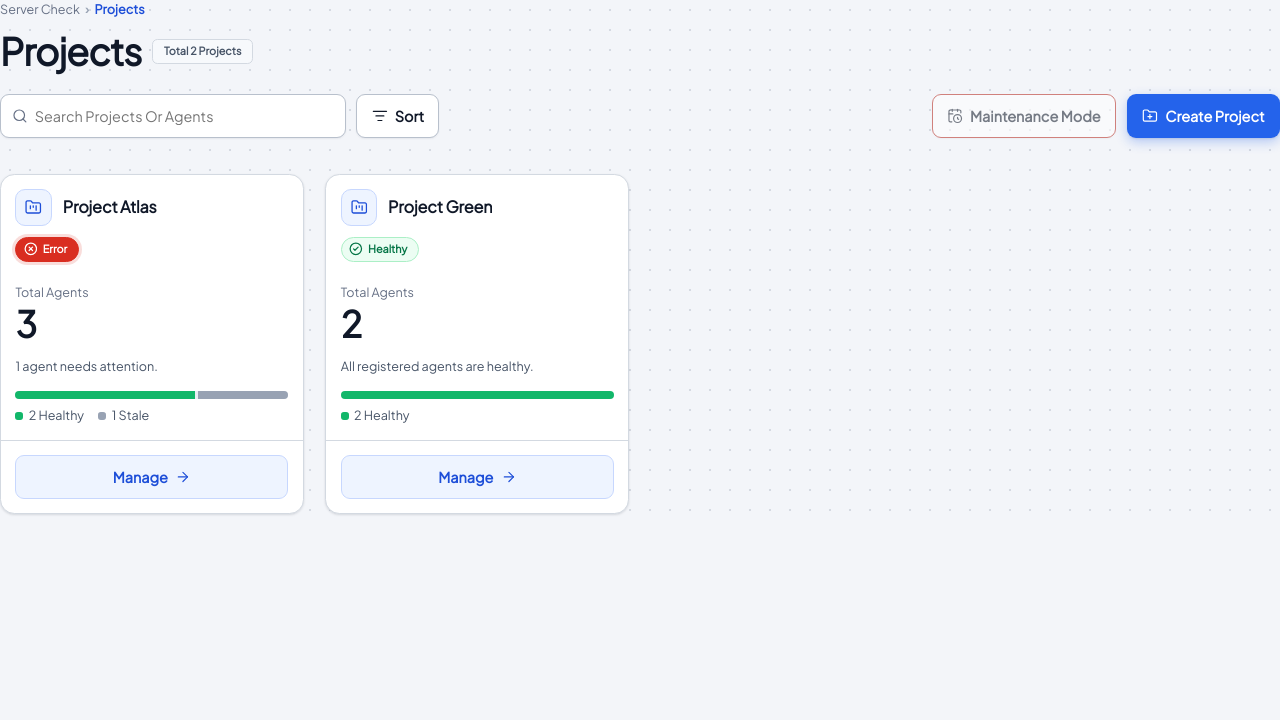
it: Projects collection flow › creates a project from the modal with the canonical API payload
Click the button "Create Project" at (1203, 116), box 1127,94 -> 1279,138
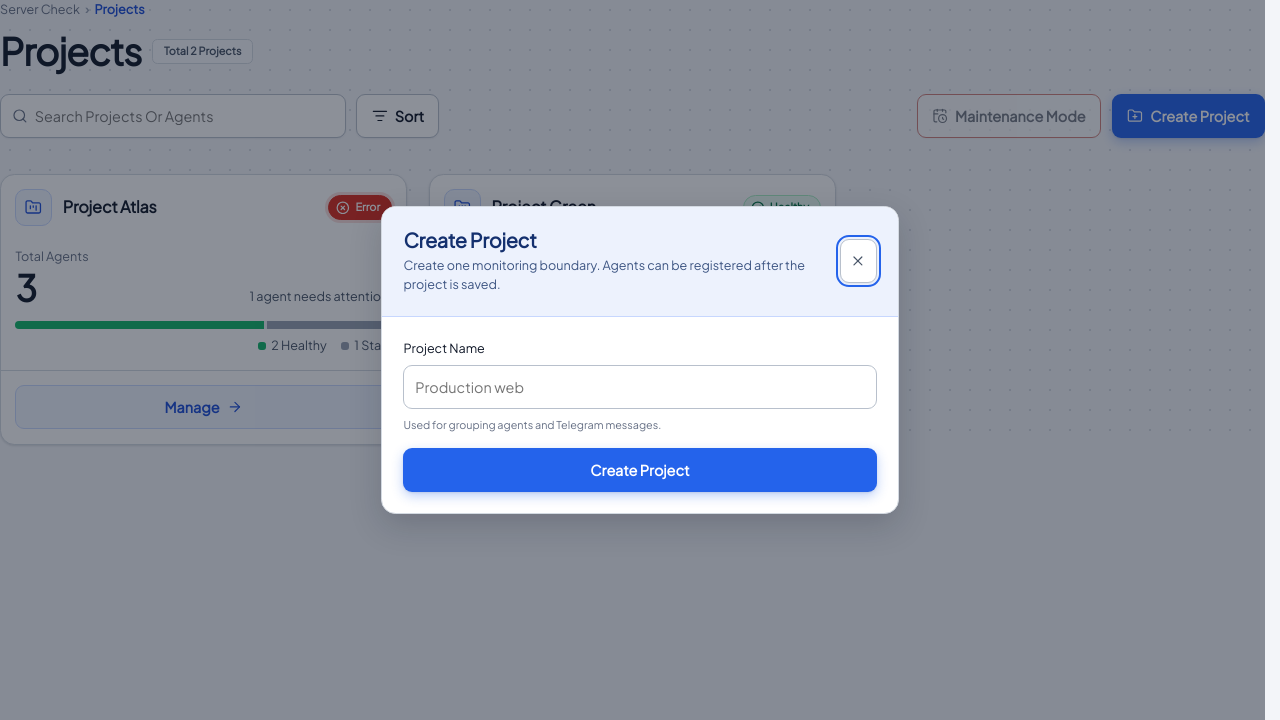
Type "Project Beacon" into the field labelled "Project Name" at (640, 388), box 403,366 -> 877,410
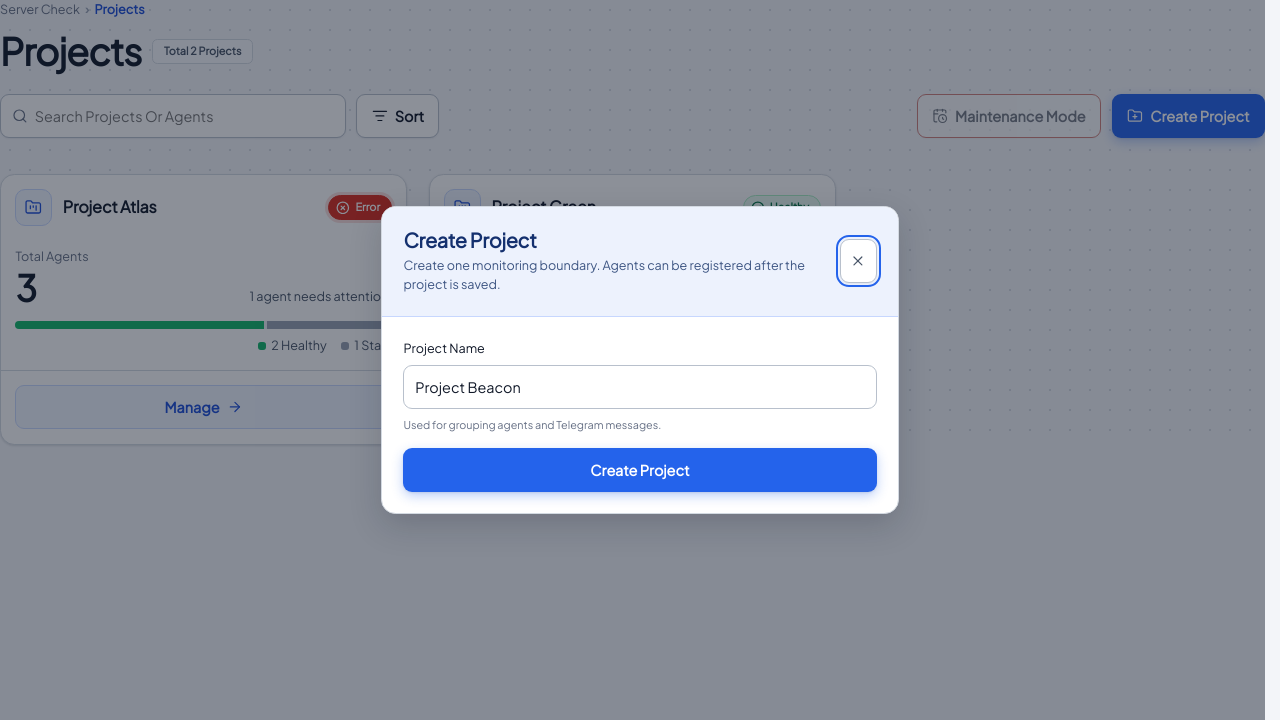
Click the button "Create Project" at (640, 470), box 403,448 -> 877,492
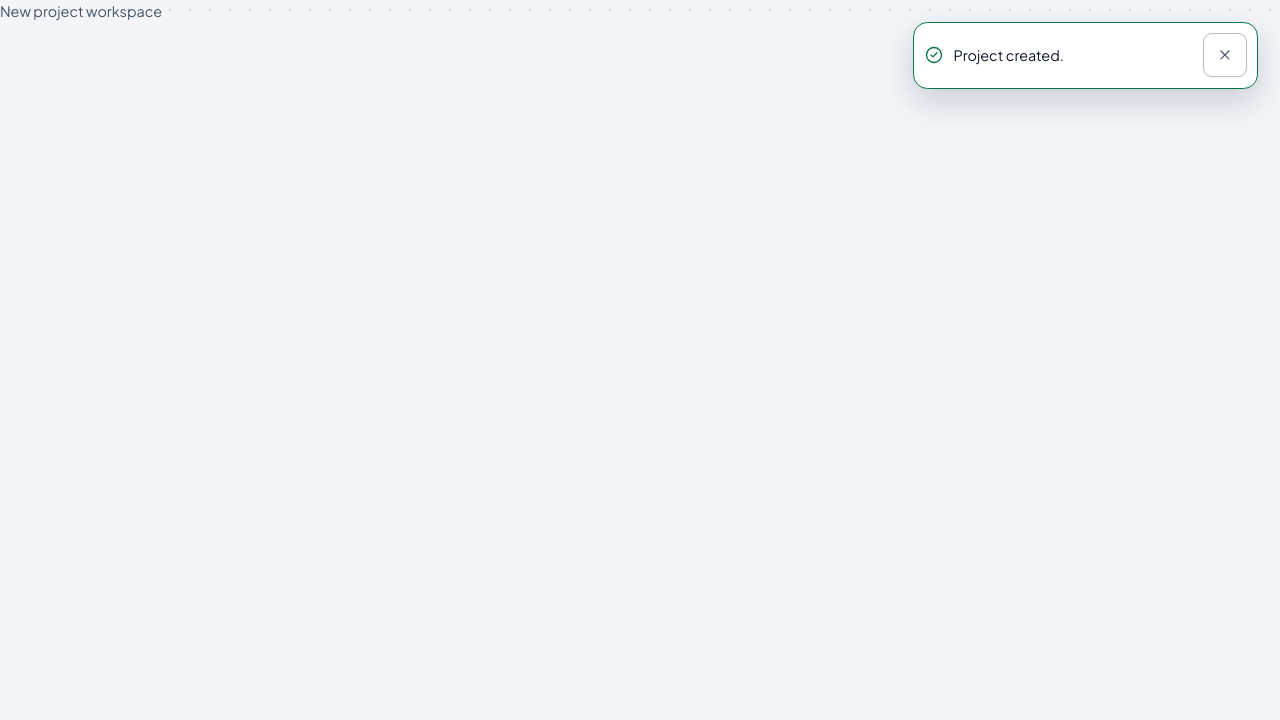
expect the text "New project workspace" is shown: met, box 0,2 -> 162,20
expect the message reads "Project created.": met, box 953,46 -> 1064,64
